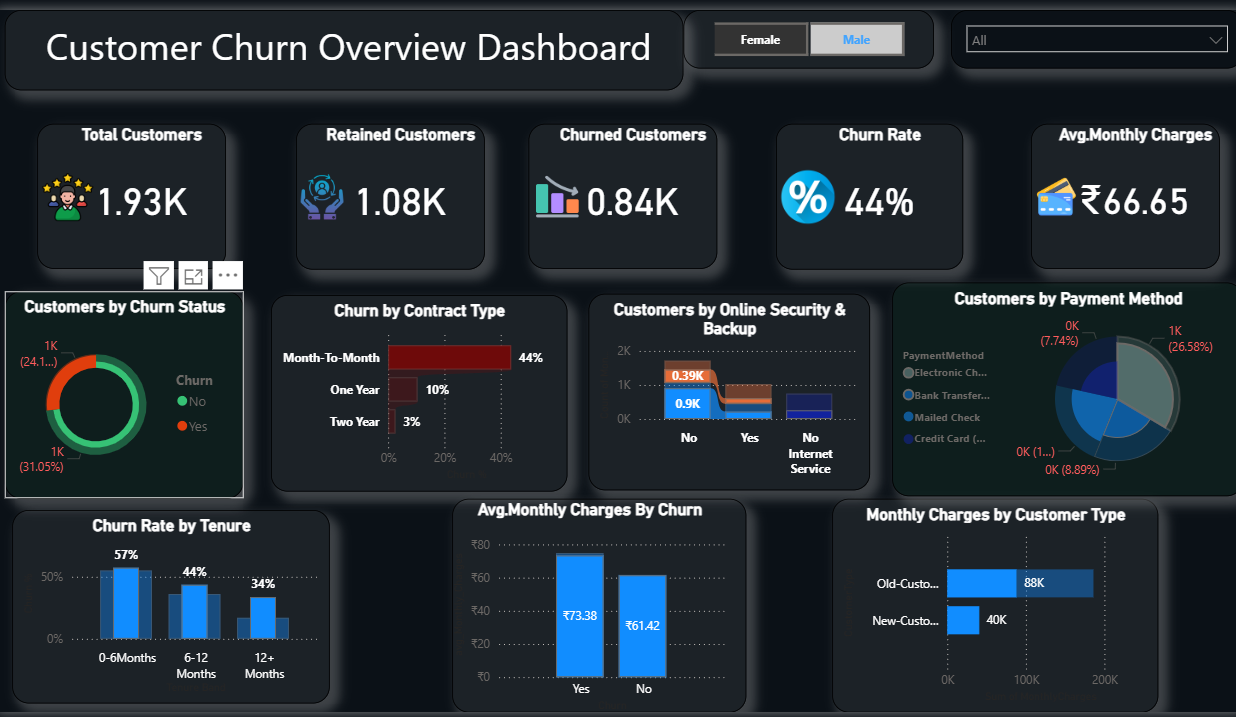

Layout of this report page (visuals, bound fields, positions):
{"tool":"powerbi","page":{"name":"Page 1","canvas":[1280,720],"ordinal":0},"visuals":[{"type":"textbox","box":[9,0,696.2,82.1],"z":0},{"type":"card","title":"Churned Customers","fields":{"Values":["churnData.Churn_Customers"]},"box":[545.8,116.9,193.2,149.2],"z":1000},{"type":"card","title":"Avg.Monthly Charges","fields":{"Values":["churnData.avg_Monthly_Charges"]},"box":[1061,116.9,193.2,149.2],"z":2000},{"type":"card","title":"Total Customers","fields":{"Values":["churnData.Total_Customers"]},"box":[42.4,116.9,193.2,149.2],"z":3000},{"type":"card","title":"Churn Rate","fields":{"Values":["churnData.Churn %"]},"box":[800,116.6,192.1,149.6],"z":4000},{"type":"card","title":"Retained Customers","fields":{"Values":["churnData.Retained_Customer"]},"box":[307.4,116.6,193.5,149.6],"z":5000},{"type":"donutChart","title":"Customers by Churn Status","fields":{"Category":["churnData.Churn"],"Y":["churnData.Total_Customers"]},"box":[9,288.5,244.9,212.8],"z":6000},{"type":"barChart","title":"Churn by Contract Type","fields":{"Category":["churnData.Contract"],"Y":["churnData.Churn %"]},"box":[282.1,292.3,303.8,201.3],"z":7000},{"type":"columnChart","title":"Customers by Online Security & Backup","fields":{"Category":["churnData.OnlineSecurity"],"Y":["CountNonNull(churnData.MonthlyCharges)"],"Series":["churnData.OnlineBackup"]},"box":[607.7,291,288.5,201.3],"z":8000},{"type":"columnChart","title":"Churn Rate by  Tenure ","fields":{"Y":["churnData.Churn %"],"Category":["churnData.Tenure Band"]},"box":[16.7,512.8,325.6,198.7],"z":9000},{"type":"clusteredColumnChart","title":"Avg.Monthly Charges By Churn","fields":{"Category":["churnData.Churn"],"Y":["churnData.avg_Monthly_Charges"]},"box":[467.9,501.3,301.3,219.2],"z":10000},{"type":"barChart","title":"Monthly Charges by Customer Type","fields":{"Category":["churnData.CustomerType"],"Y":["Sum(churnData.MonthlyCharges)"]},"box":[857.7,501.3,334.6,219.2],"z":11000},{"type":"image","box":[42.4,135.6,62.7,111.9],"z":12000},{"type":"image","box":[1061,116.9,52.5,149.2],"z":13000},{"type":"image","box":[545.8,116.9,59.3,149.2],"z":14000},{"type":"image","box":[306.8,155.9,55.9,71.2],"z":15000},{"type":"image","box":[800,145.8,66.1,91.5],"z":16000},{"type":"pieChart","title":"Customers by Payment Method","fields":{"Category":["churnData.PaymentMethod"],"Y":["churnData.Total_Customers"]},"box":[919.2,279.5,360.3,219.2],"z":17000},{"type":"slicer","fields":{"Values":["churnData.gender"]},"box":[705.1,0,256.4,60.3],"z":17001},{"type":"slicer","fields":{"Values":["churnData.Contract"]},"box":[979.5,0,300,60.3],"z":17002}]}

Visuals, with their boxes on the page's 1280x720 design canvas (x1, y1, x2, y2). These are canvas units, not pixel positions in the 1236x717 screenshot, which may show the page scaled, cropped or inside an application window:
textbox: <region>9, 0, 705, 82</region>
"Churned Customers" card: <region>546, 117, 739, 266</region>
"Avg.Monthly Charges" card: <region>1061, 117, 1254, 266</region>
"Total Customers" card: <region>42, 117, 236, 266</region>
"Churn Rate" card: <region>800, 117, 992, 266</region>
"Retained Customers" card: <region>307, 117, 501, 266</region>
"Customers by Churn Status" donutChart: <region>9, 288, 254, 501</region>
"Churn by Contract Type" barChart: <region>282, 292, 586, 494</region>
"Customers by Online Security & Backup" columnChart: <region>608, 291, 896, 492</region>
"Churn Rate by  Tenure " columnChart: <region>17, 513, 342, 712</region>
"Avg.Monthly Charges By Churn" clusteredColumnChart: <region>468, 501, 769, 720</region>
"Monthly Charges by Customer Type" barChart: <region>858, 501, 1192, 720</region>
image: <region>42, 136, 105, 248</region>
image: <region>1061, 117, 1114, 266</region>
image: <region>546, 117, 605, 266</region>
image: <region>307, 156, 363, 227</region>
image: <region>800, 146, 866, 237</region>
"Customers by Payment Method" pieChart: <region>919, 280, 1280, 499</region>
slicer - churnData.gender: <region>705, 0, 962, 60</region>
slicer - churnData.Contract: <region>980, 0, 1280, 60</region>
